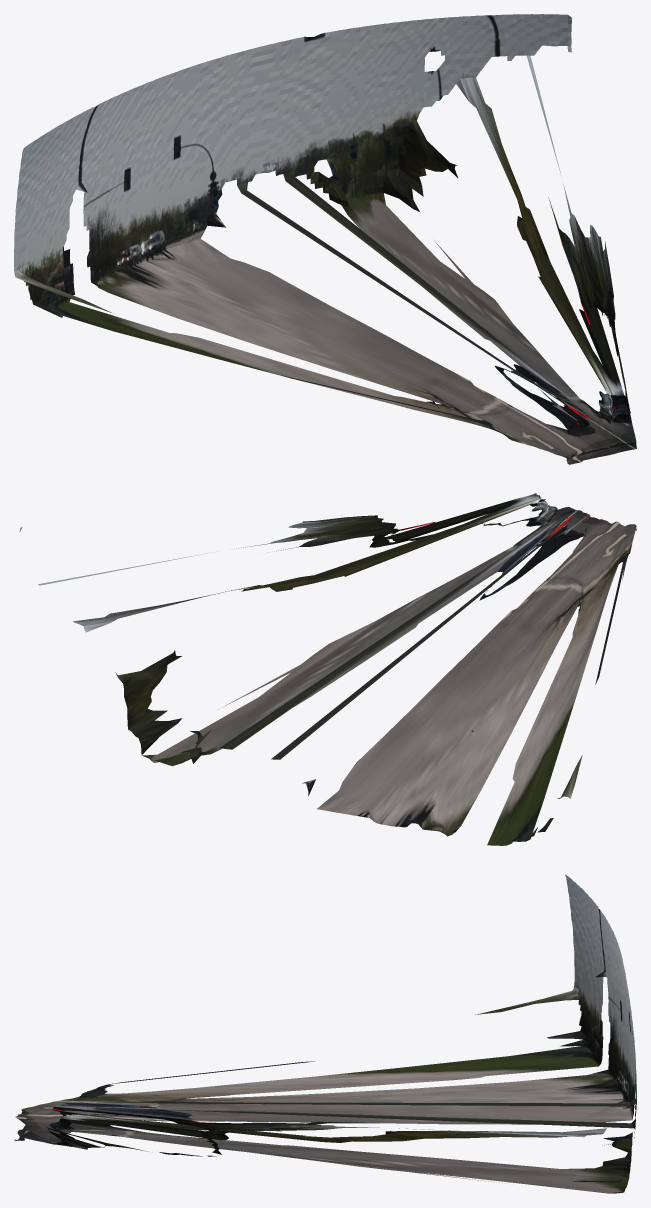
3 renders of one model, top to bottom at view 1: azimuth 30°, elevation 25°; view 2: azimuth 150°, elevation 25°; view 3: azimuth 270°, elevation 25°, orthographic. The views are drawn at different scales.
Parts seen in each view (by area): view 1: defaultobject; view 2: defaultobject; view 3: defaultobject.
Part boxes in pixels (x1,y1,x2,y2): defaultobject: [14, 14, 636, 464]; defaultobject: [19, 493, 636, 845]; defaultobject: [14, 874, 636, 1193].
Size of the model in its own units: 40.98 by 13.75 by 44.63.
1 material, 1 textured.
